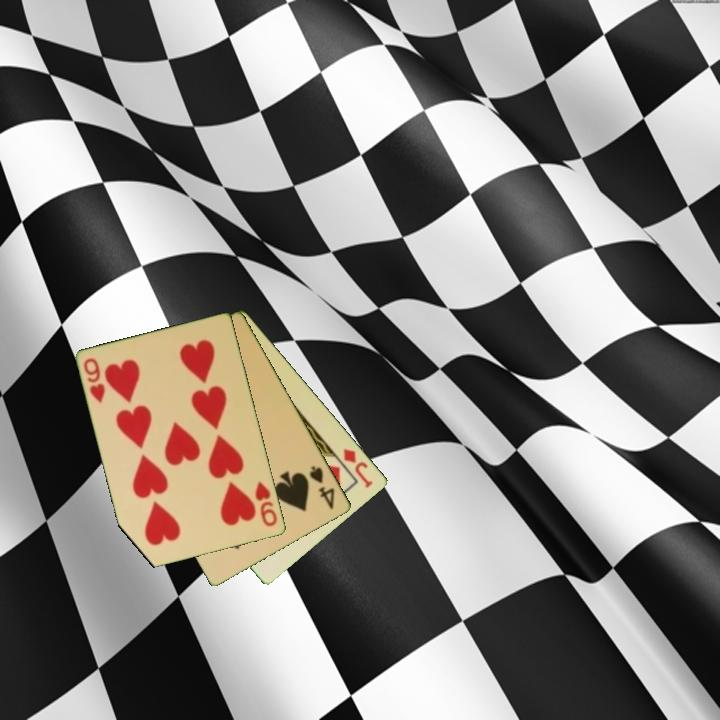4s: (306, 462, 338, 513)
9h: (252, 477, 280, 530), (80, 355, 108, 406)
Jd: (340, 445, 376, 491)
